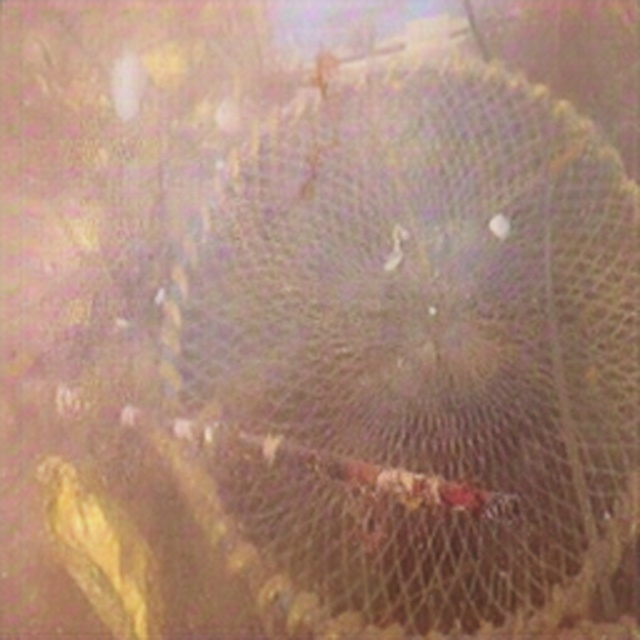mine: (157, 51, 639, 639)
